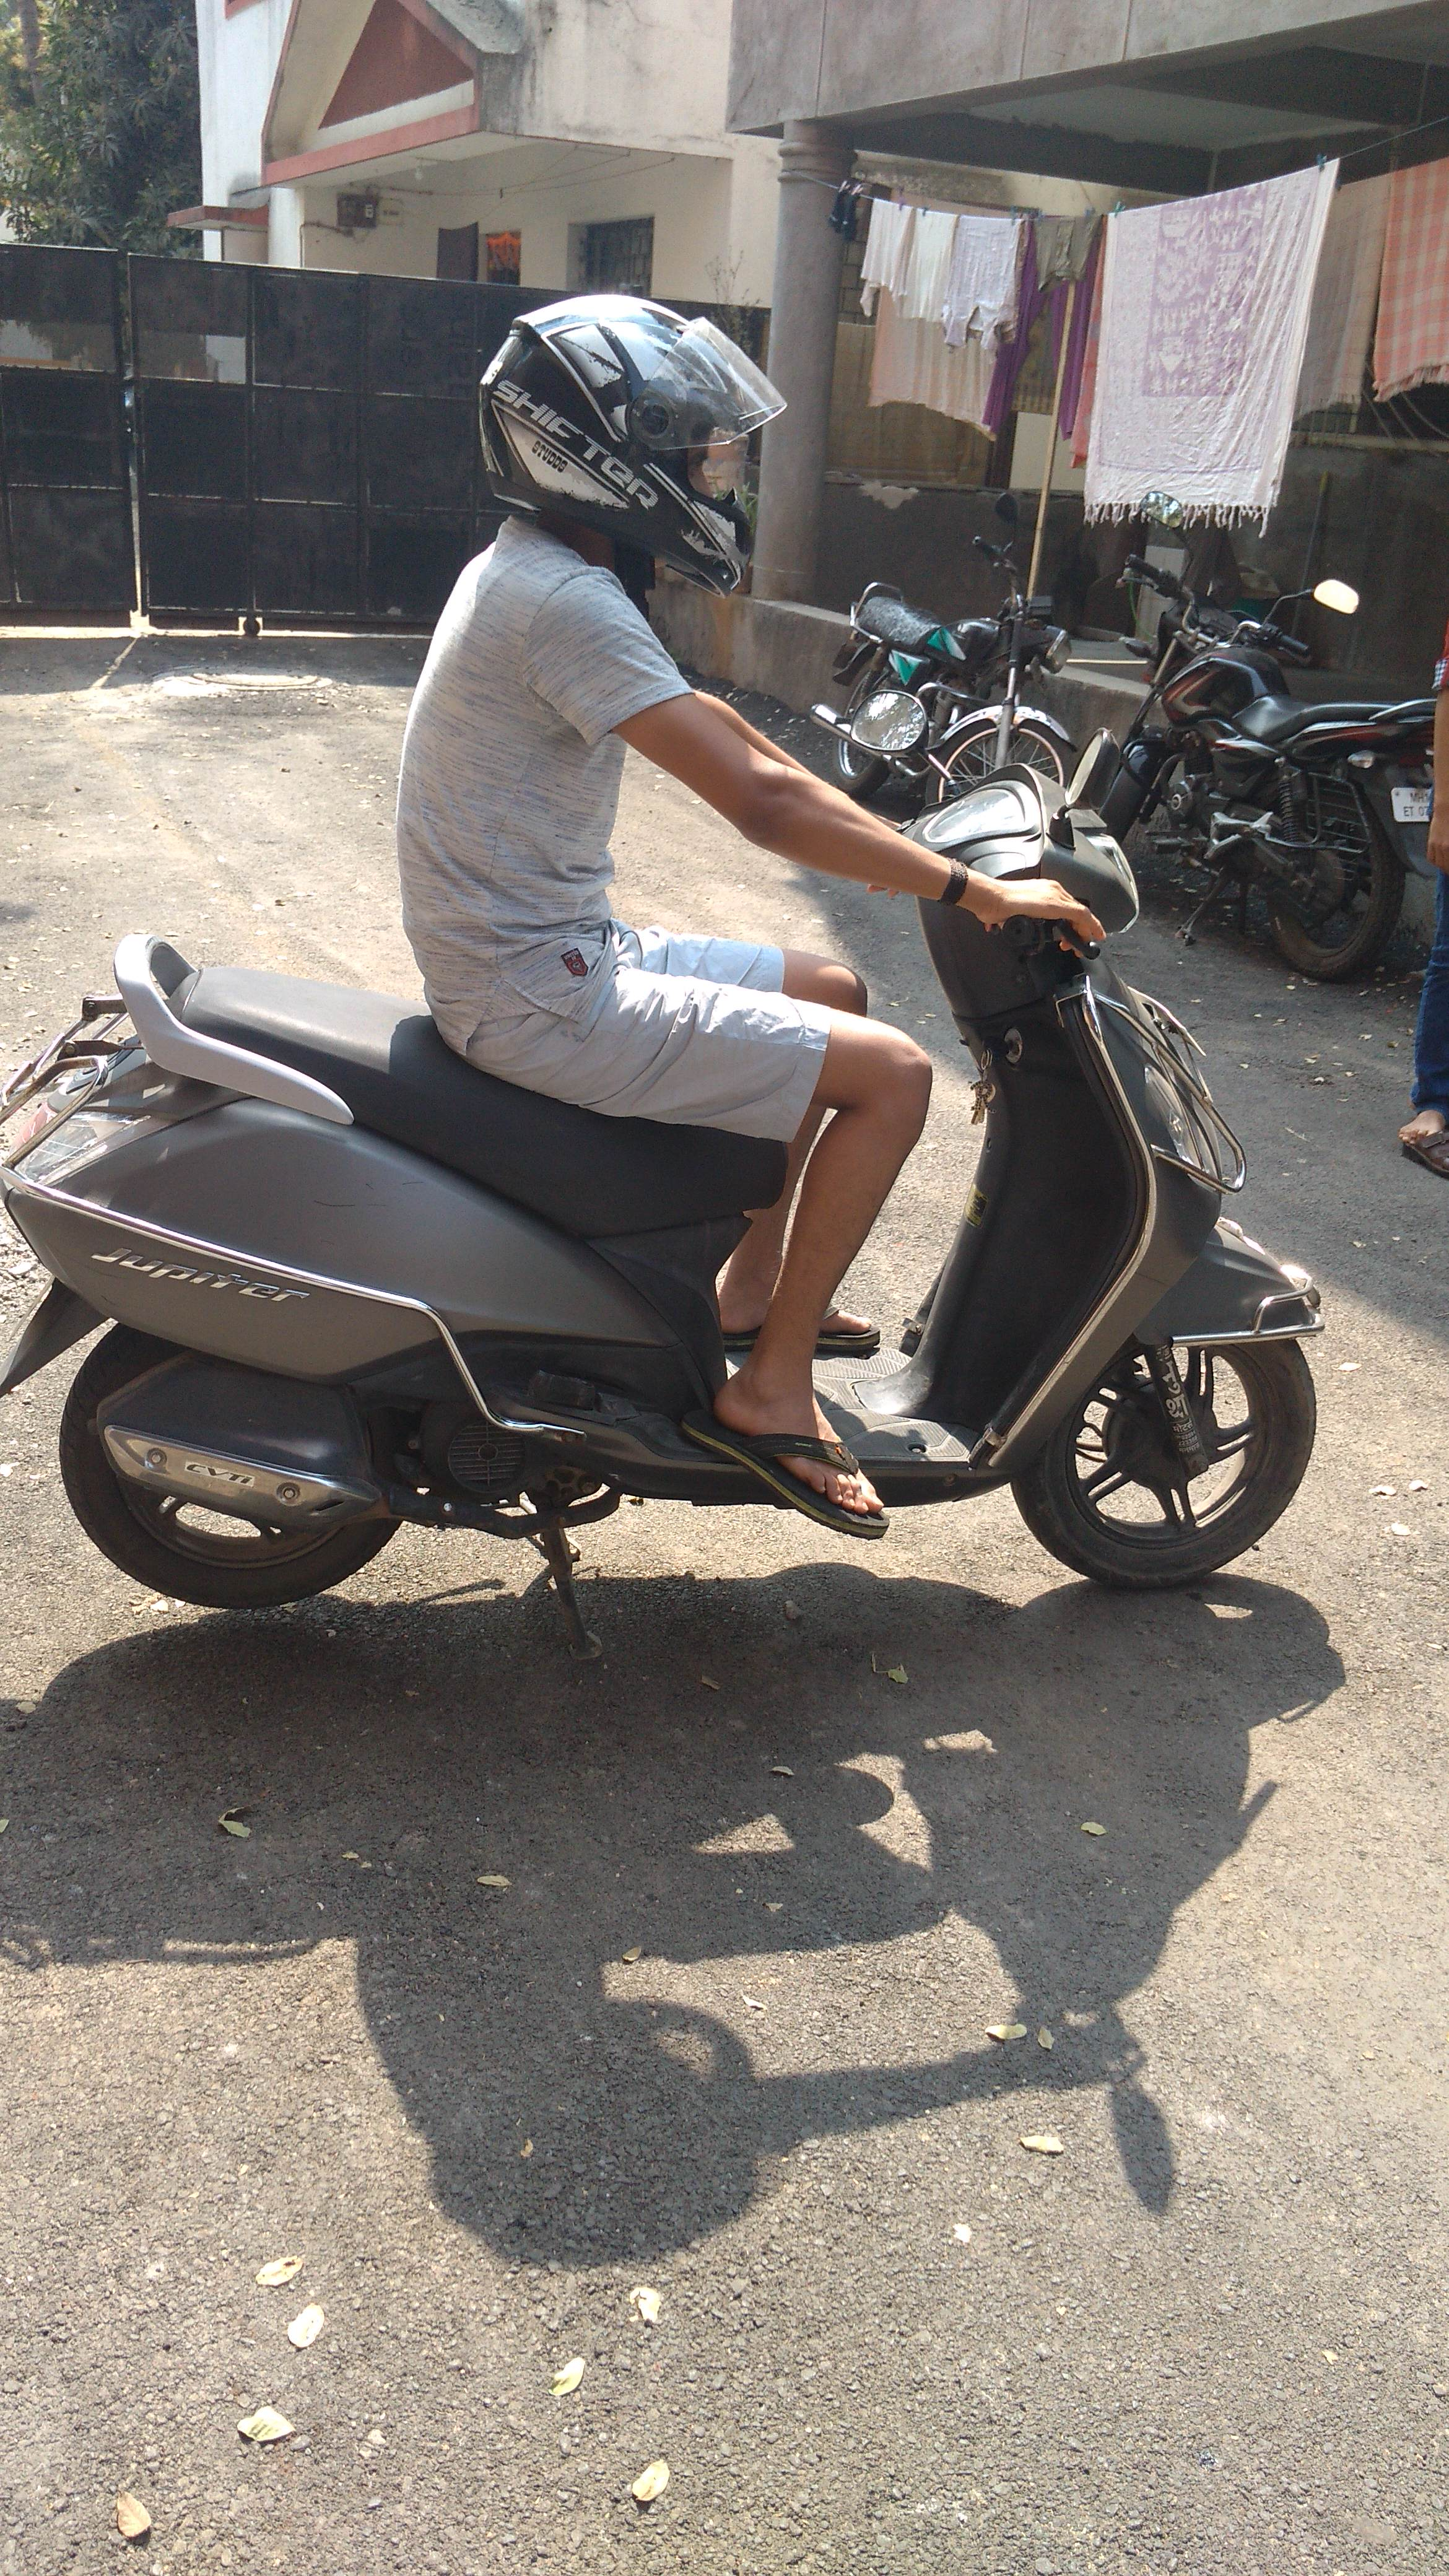helmet: (315, 301, 993, 1226)
